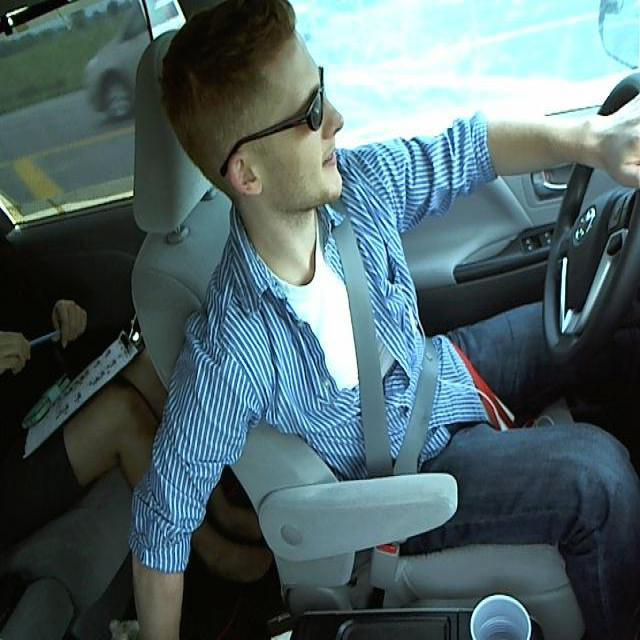seatbelt: (327, 253, 439, 460)
